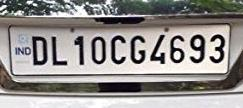0: (89, 36, 107, 65)
1: (72, 34, 88, 67)
3: (208, 33, 226, 65)
4: (149, 34, 168, 65)
6: (169, 34, 185, 64)
9: (188, 34, 206, 64)
C: (110, 34, 127, 66)
D: (30, 35, 50, 66)
G: (129, 34, 148, 66)
L: (50, 35, 69, 67)
